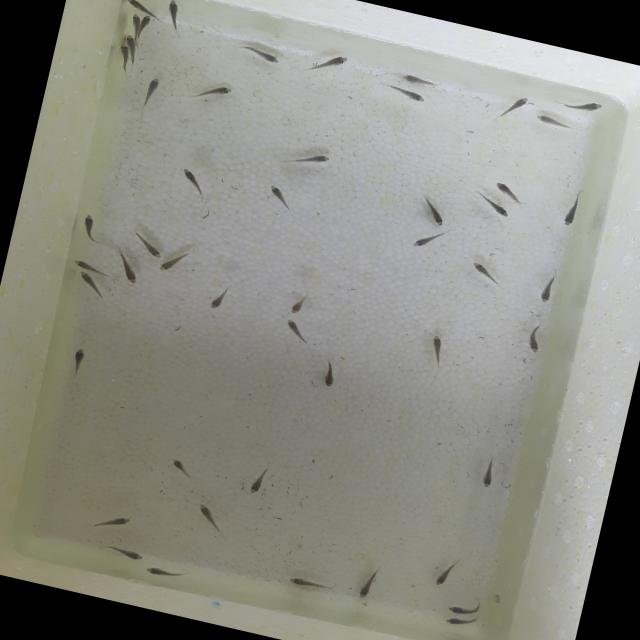fingerling: (282, 144, 334, 176), (491, 89, 532, 128), (305, 48, 352, 82), (188, 499, 231, 536), (174, 165, 214, 202), (87, 506, 134, 536), (554, 92, 606, 119), (466, 257, 507, 291), (555, 190, 587, 232), (380, 82, 433, 107), (280, 317, 320, 350), (262, 180, 300, 214), (112, 248, 146, 286), (422, 328, 452, 371), (283, 572, 336, 596), (140, 562, 193, 586), (408, 224, 446, 256), (128, 230, 168, 260), (530, 111, 580, 133), (246, 461, 274, 499), (396, 69, 444, 91), (167, 457, 206, 484), (432, 555, 461, 591), (475, 452, 501, 492), (73, 270, 110, 298), (204, 279, 234, 313), (536, 264, 560, 306), (76, 212, 105, 246), (198, 79, 234, 106), (158, 246, 188, 278), (284, 286, 312, 320), (99, 542, 146, 562), (420, 198, 450, 228), (244, 43, 282, 66), (353, 568, 378, 602), (72, 256, 112, 277), (318, 356, 342, 390), (139, 75, 161, 112), (67, 344, 88, 380), (490, 180, 524, 202), (111, 42, 132, 74), (443, 602, 479, 620), (484, 199, 514, 220), (439, 614, 476, 631), (161, 0, 185, 26), (522, 326, 544, 353), (124, 0, 158, 17), (136, 9, 152, 38), (125, 12, 142, 30), (123, 32, 138, 48)
